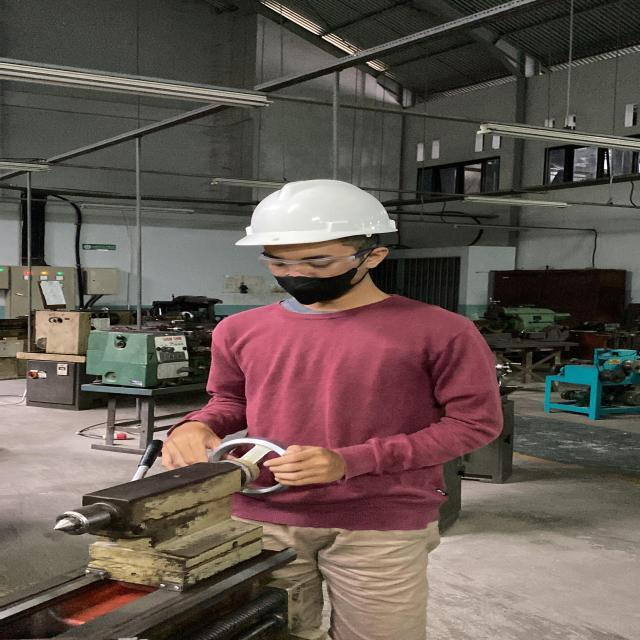glasses: (256, 252, 366, 278)
